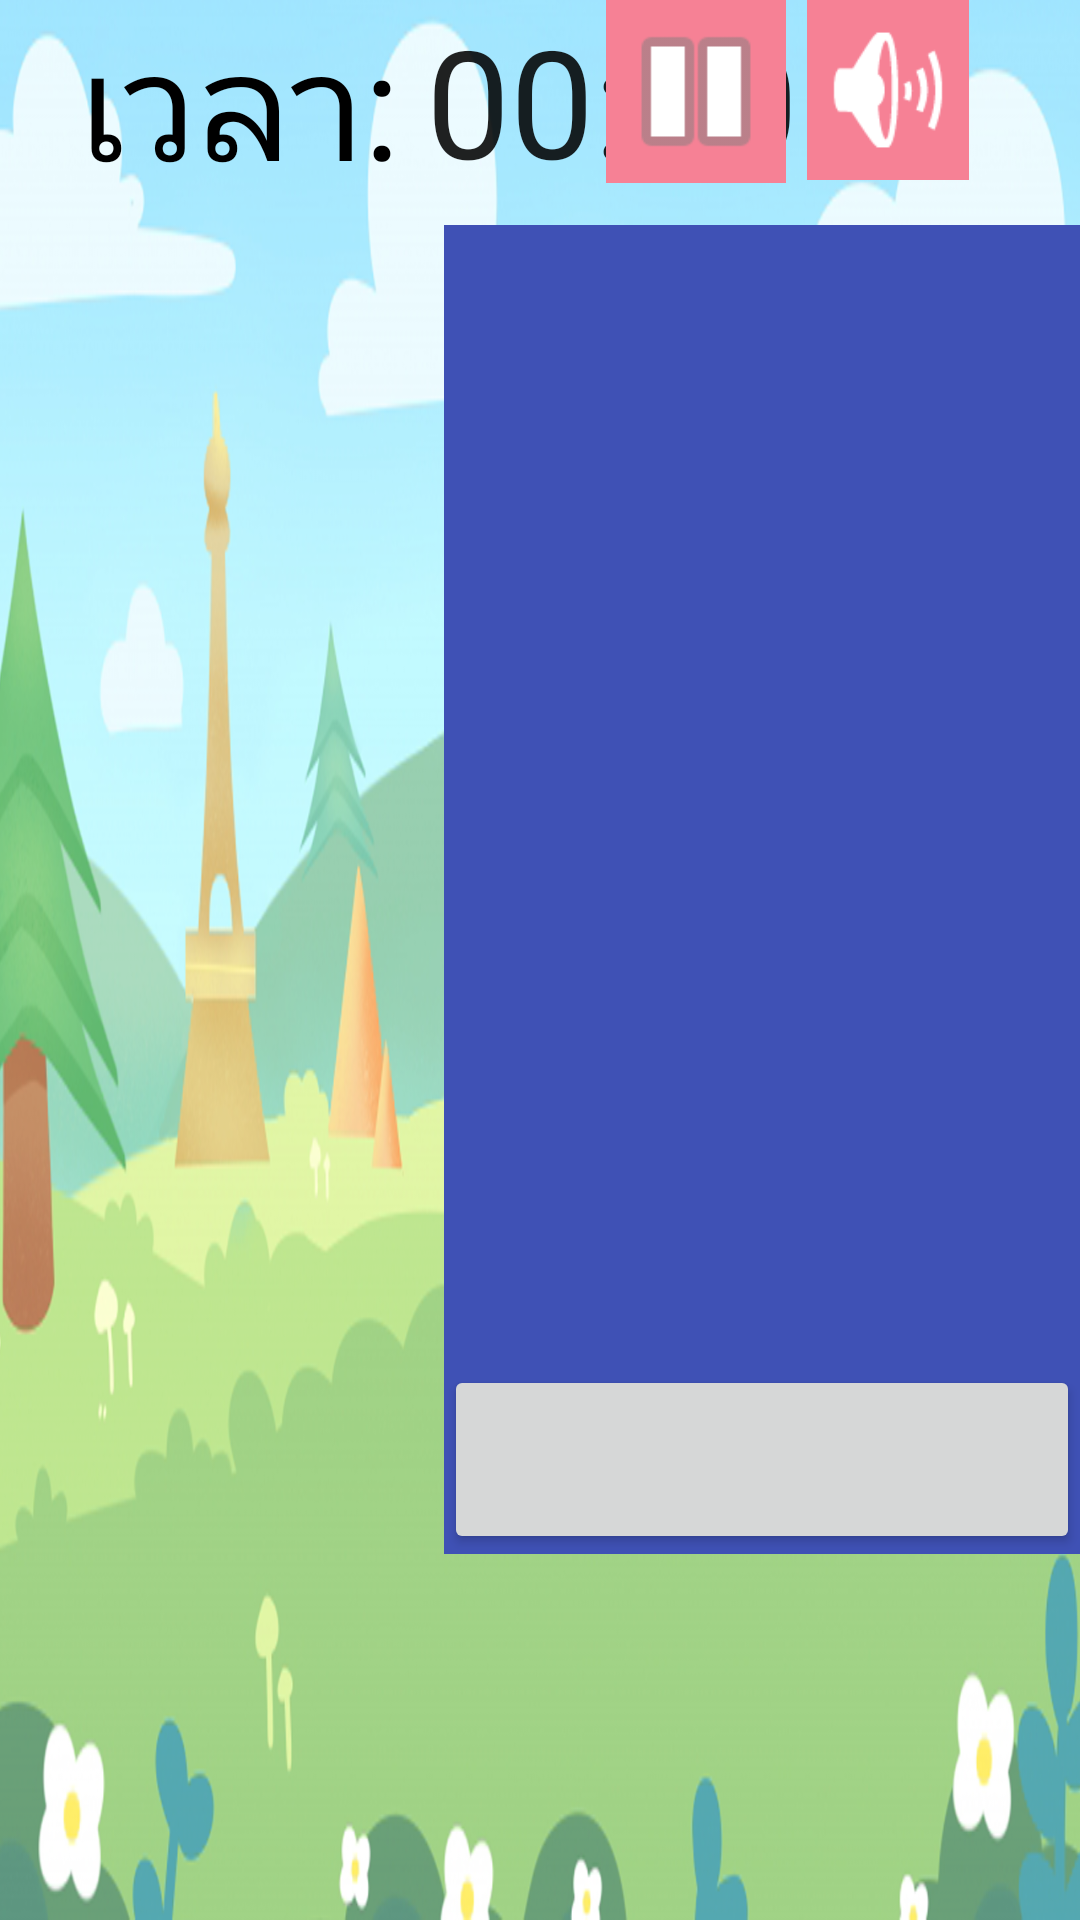

Where to tap for icons on this 1080 x 1920 app screen, as [x,y]:
lock silent mode off: [888,90]
pause: [696,91]
